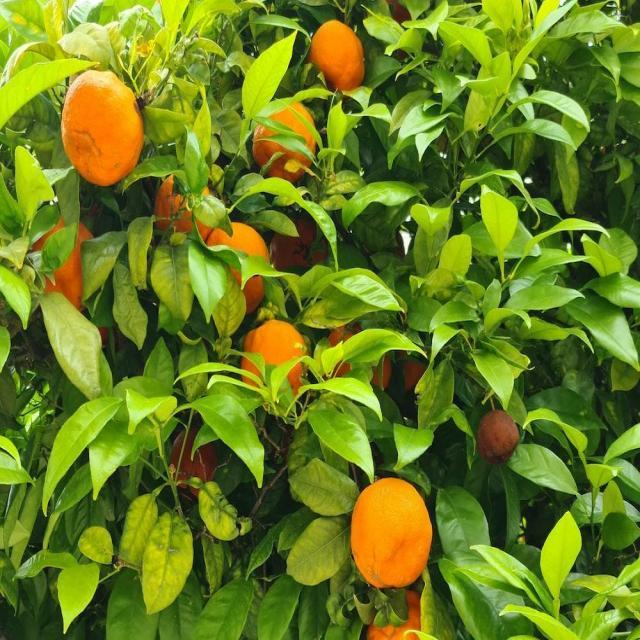Jeruk Sudah Matang: (60, 70, 145, 188), (354, 479, 432, 584), (34, 216, 96, 312), (245, 321, 308, 409), (208, 222, 270, 310), (254, 102, 314, 186), (153, 174, 219, 242), (310, 20, 366, 94), (270, 213, 327, 281), (364, 588, 423, 640), (171, 429, 216, 493), (478, 409, 520, 466), (328, 328, 364, 378), (400, 346, 430, 386)
